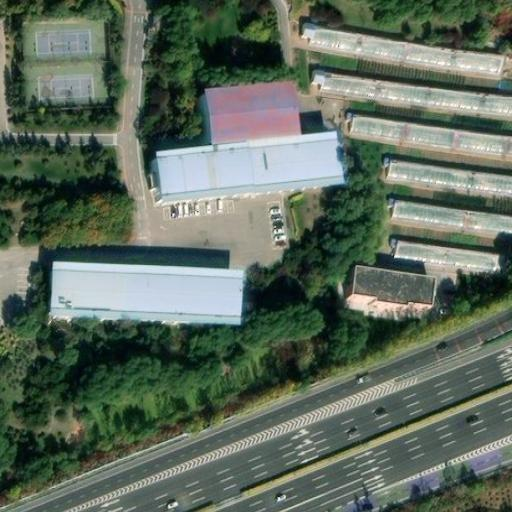building: (155, 134, 341, 202), (50, 263, 240, 326), (209, 81, 297, 146), (354, 265, 438, 310)
